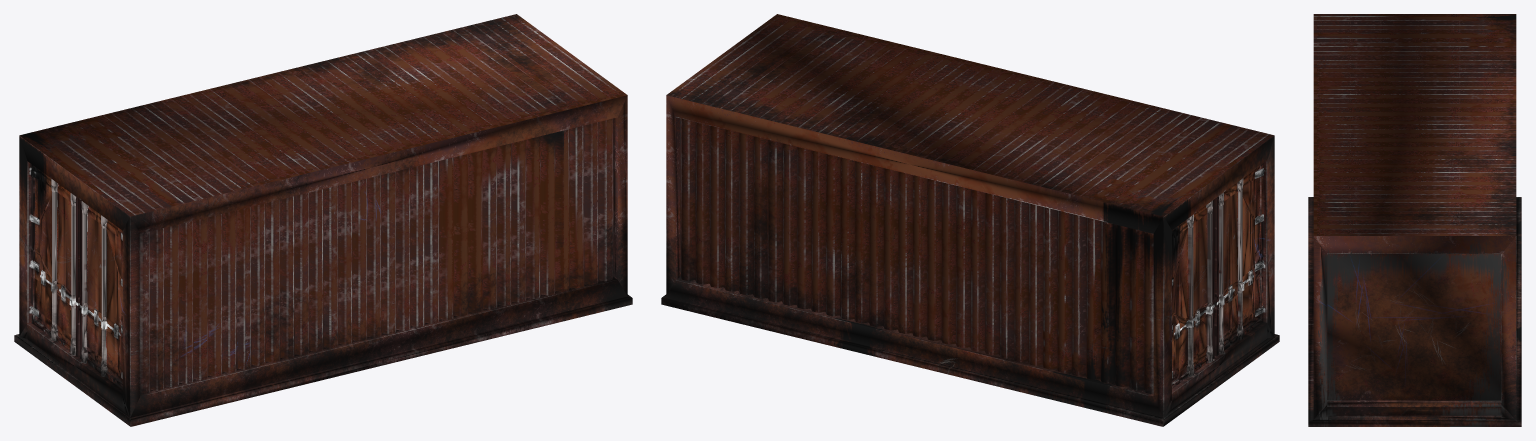
File: cargo-container-with-doors.fbx
3 views of the same model, side by side, from view 1: azimuth 30°, elevation 25°; view 2: azimuth 150°, elevation 25°; view 3: azimuth 270°, elevation 25° (orthographic). The views are drawn at different scales.
Visible parts, largest first — view 1: cratered; view 2: cratered; view 3: cratered.
Part boxes in pixels (x1,y1,x2,y2): cratered: [14, 14, 632, 426]; cratered: [661, 14, 1279, 426]; cratered: [1308, 14, 1521, 426].
Size of the model in its own units: 602 by 238 by 242.
Materials: 1 (1 with a texture image).
